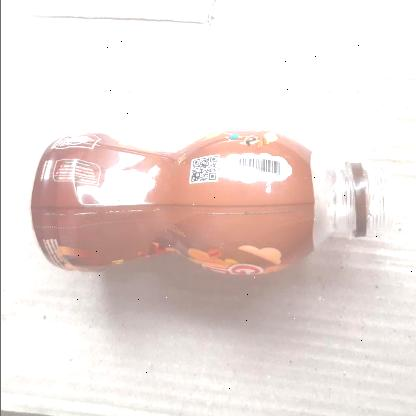Plastic Bottle: (30, 129, 390, 277)
